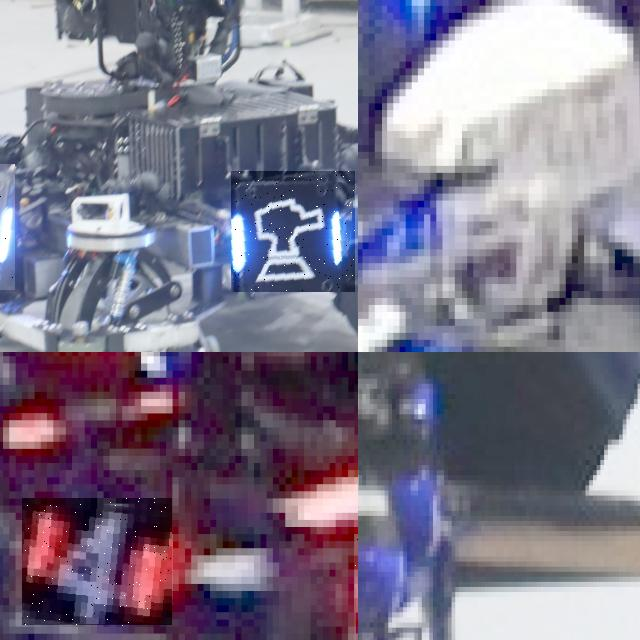Bs: (231, 171, 355, 292), (0, 164, 15, 290)
R4: (22, 498, 172, 626)
